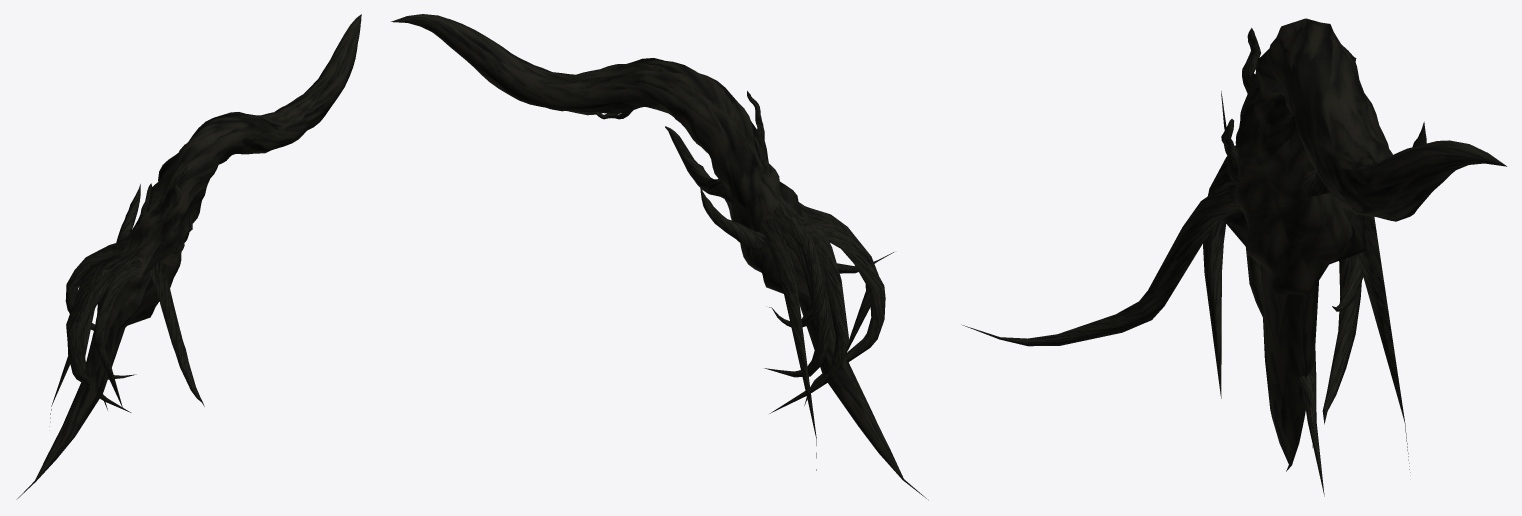
3 views of the same model, side by side, from view 1: azimuth 30°, elevation 25°; view 2: azimuth 150°, elevation 25°; view 3: azimuth 270°, elevation 25° (orthographic). The views are drawn at different scales.
Visible parts, largest first — view 1: SM_SwampVines_04_LOD0; view 2: SM_SwampVines_04_LOD0; view 3: SM_SwampVines_04_LOD0.
Part boxes in pixels (x1,y1,x2,y2): SM_SwampVines_04_LOD0: (16,14,361,499); SM_SwampVines_04_LOD0: (391,14,928,500); SM_SwampVines_04_LOD0: (961,18,1506,496).
Size of the model in its own units: 4.48 by 3.75 by 2.64.
1 material, 1 textured.
